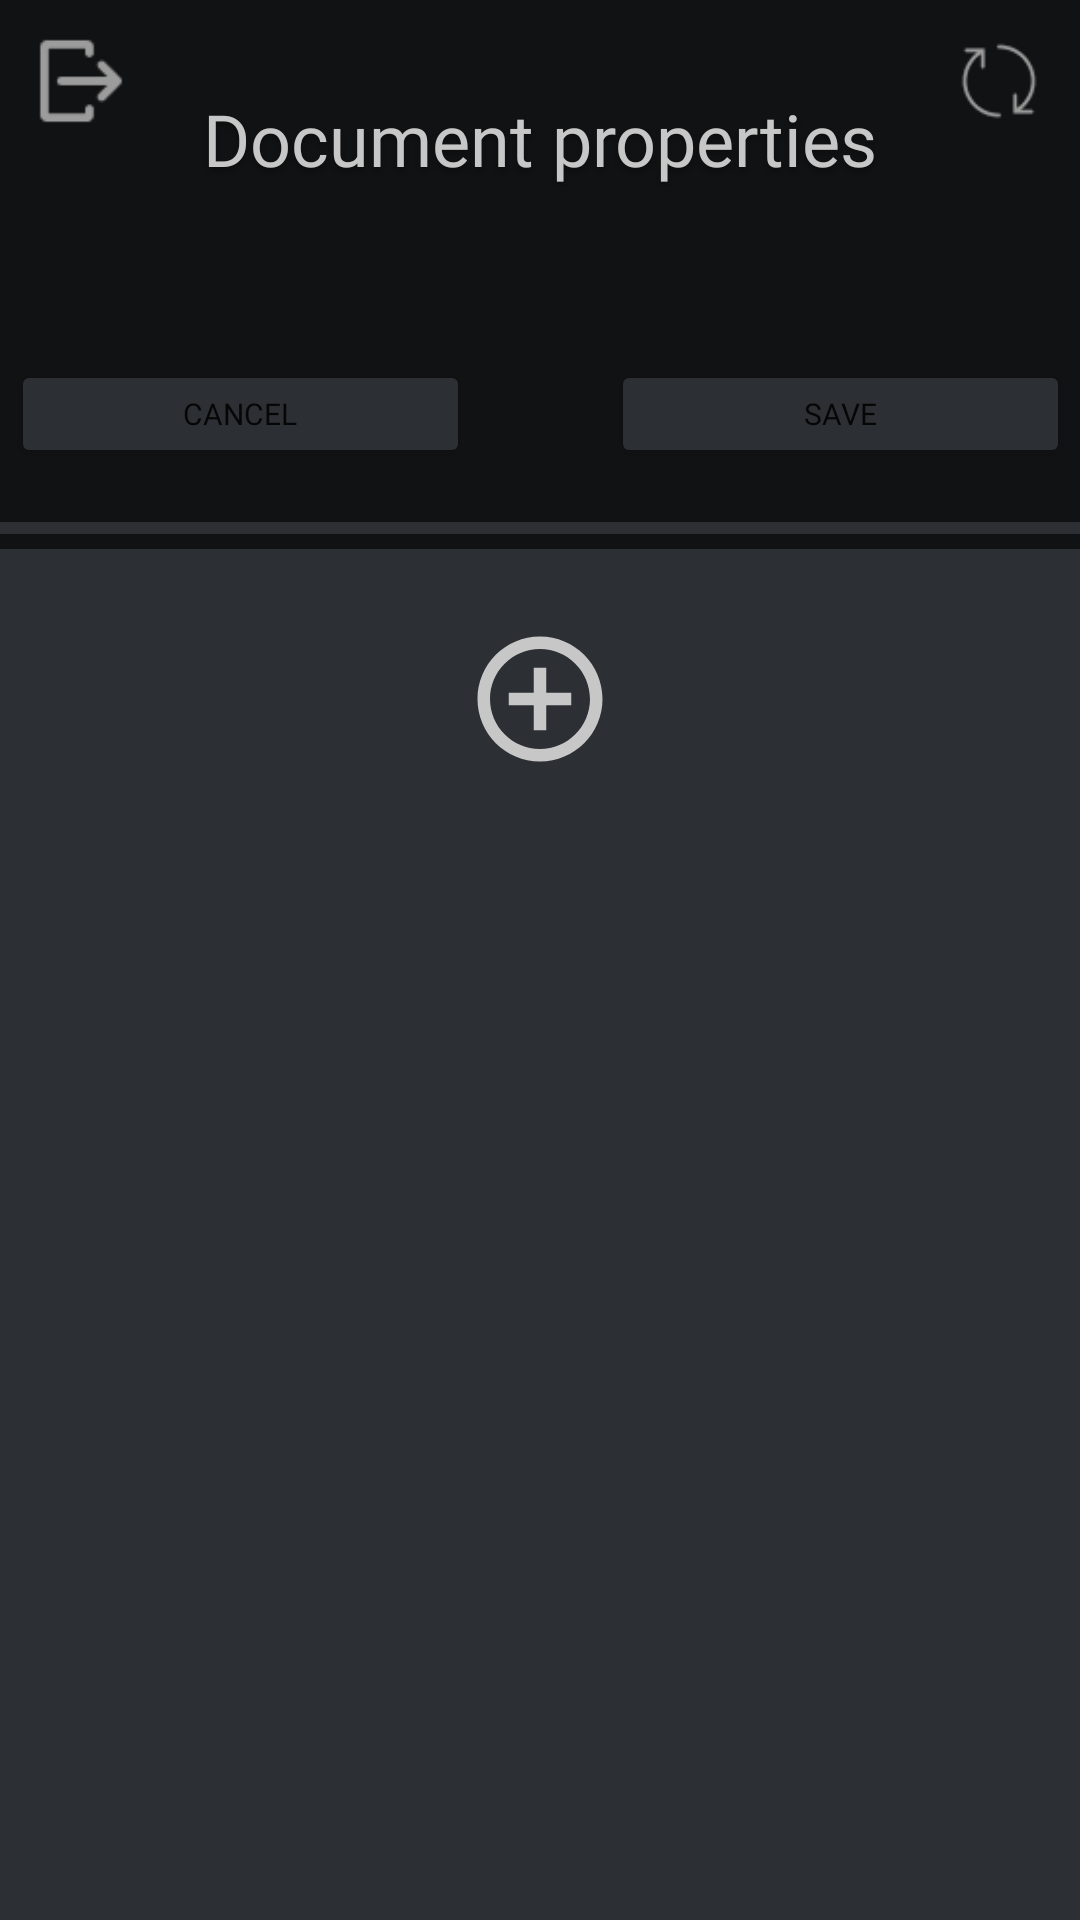

Named icons in this screenshot (1080px×1920px) and their centers, (x,y):
add: (540,699)
synchronize: (999,81)
